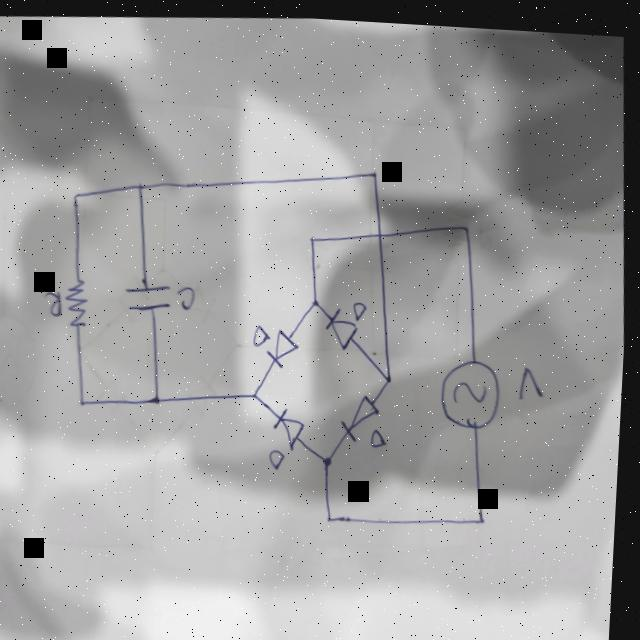capacitor: (127, 279, 177, 314)
crossover: (377, 226, 388, 238)
diode: (342, 388, 388, 442), (327, 301, 364, 350), (275, 403, 313, 450), (267, 324, 306, 369)
junction: (327, 505, 345, 525), (326, 450, 341, 467), (155, 390, 168, 406), (387, 368, 399, 385), (461, 215, 474, 230), (371, 163, 383, 179), (313, 292, 325, 308), (479, 508, 493, 521), (310, 230, 322, 244), (136, 180, 150, 192), (255, 385, 267, 399), (74, 190, 84, 204), (82, 398, 93, 410)
resistor: (65, 277, 96, 330)
source: (441, 352, 508, 430)
text: (520, 359, 549, 396), (47, 287, 68, 319), (178, 282, 200, 312), (254, 318, 276, 345), (374, 423, 394, 447), (273, 445, 292, 468), (356, 297, 372, 319)
